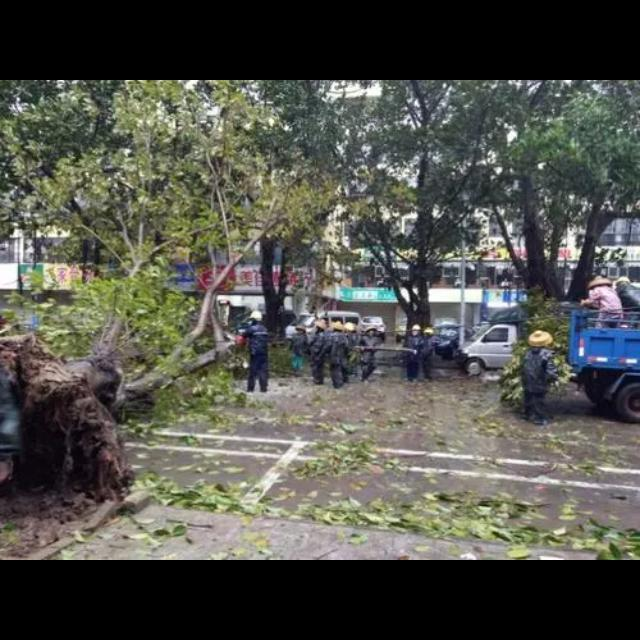fallen_tree: (6, 82, 328, 462)
